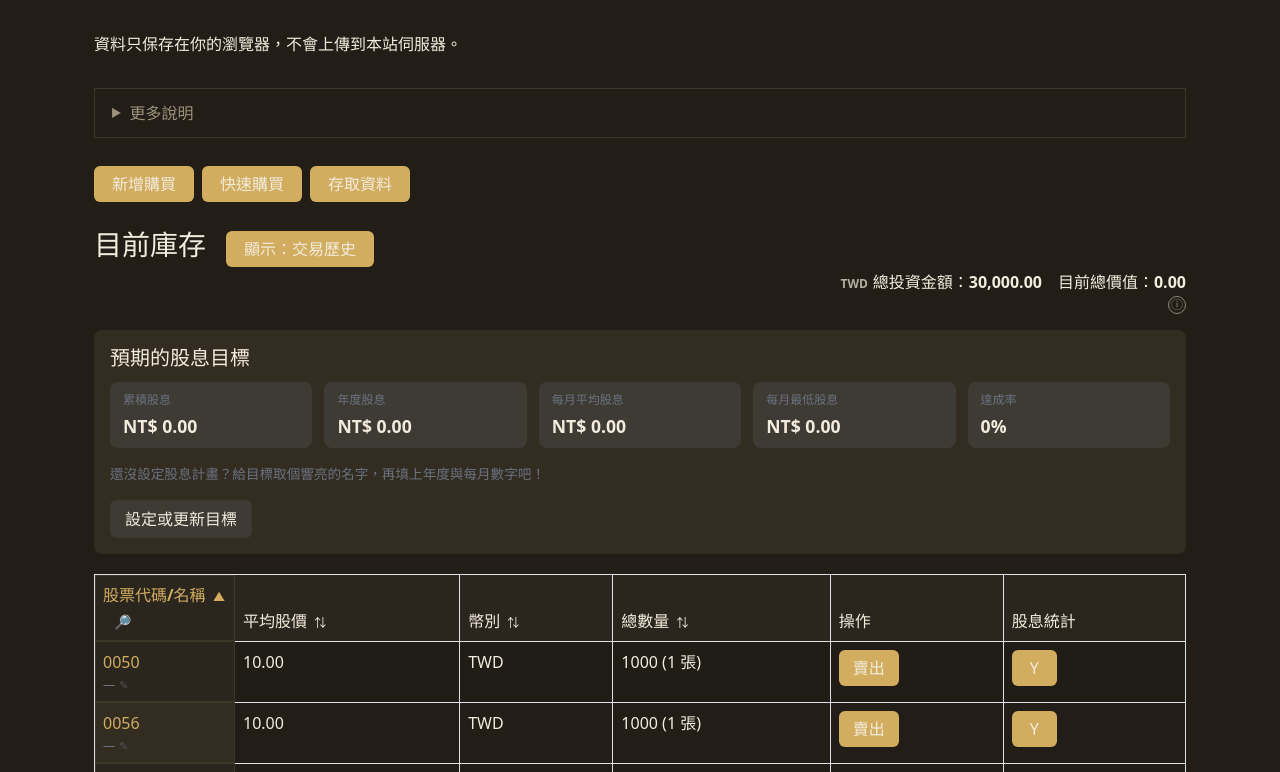
Test case: InventoryTab interactions › inventory table toggles to descending when stock code header is clicked
Expected: the button "顯示：交易歷史" is shown, [226, 231, 374, 267]
Step 1. Click the button with aria-label "依股票代碼排序" → x=164, y=595, box [103, 583, 225, 607]
(page scrolled)
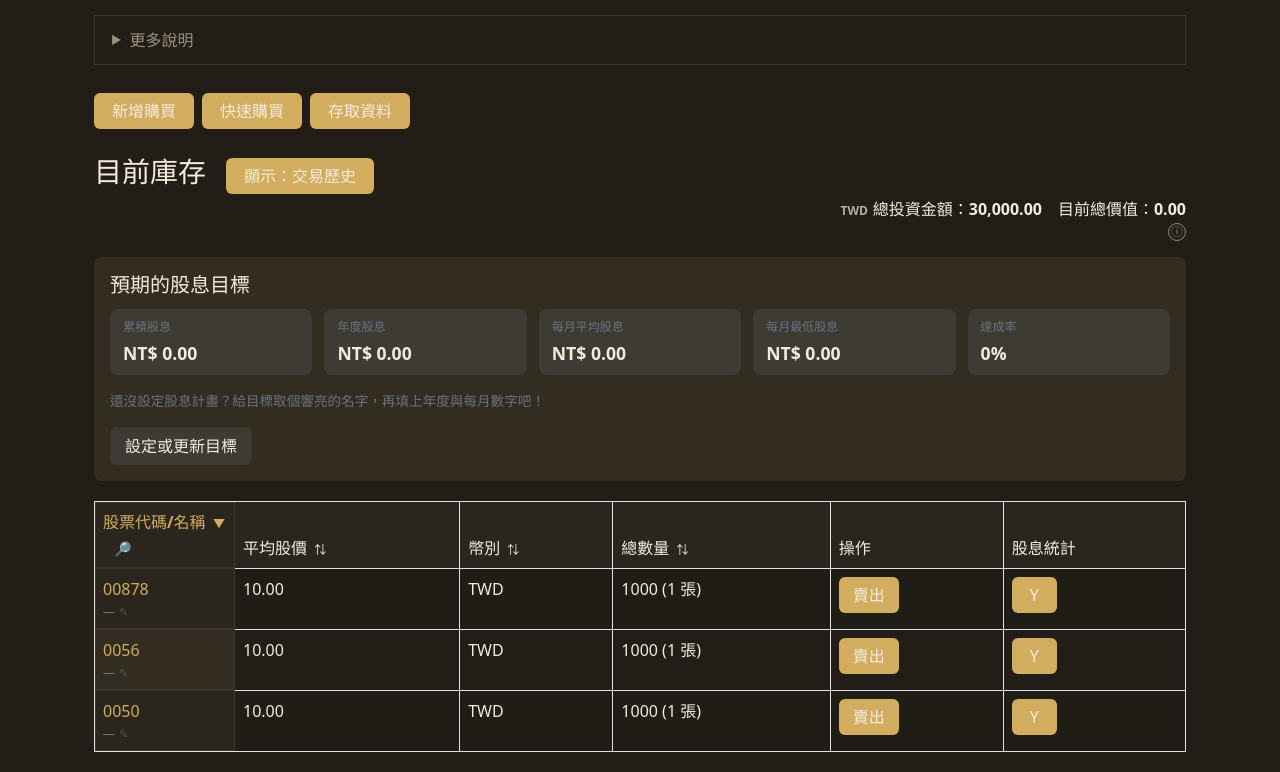
Expected: the row "0056 — ✎ 10.00 TWD 1000 (1 張) 賣出 Y" is shown, [94, 629, 1186, 690]
Expected: the row "00878 — ✎ 10.00 TWD 1000 (1 張) 賣出 Y" is shown, [94, 568, 1186, 629]
Expected: the row "0050 — ✎ 10.00 TWD 1000 (1 張) 賣出 Y" is shown, [94, 690, 1186, 751]
